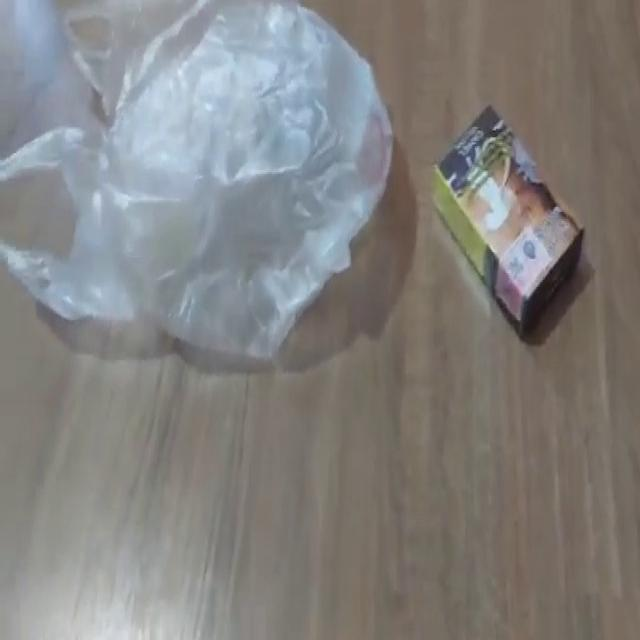Anorganik: (1, 2, 399, 365)
Organik: (431, 97, 589, 348)
